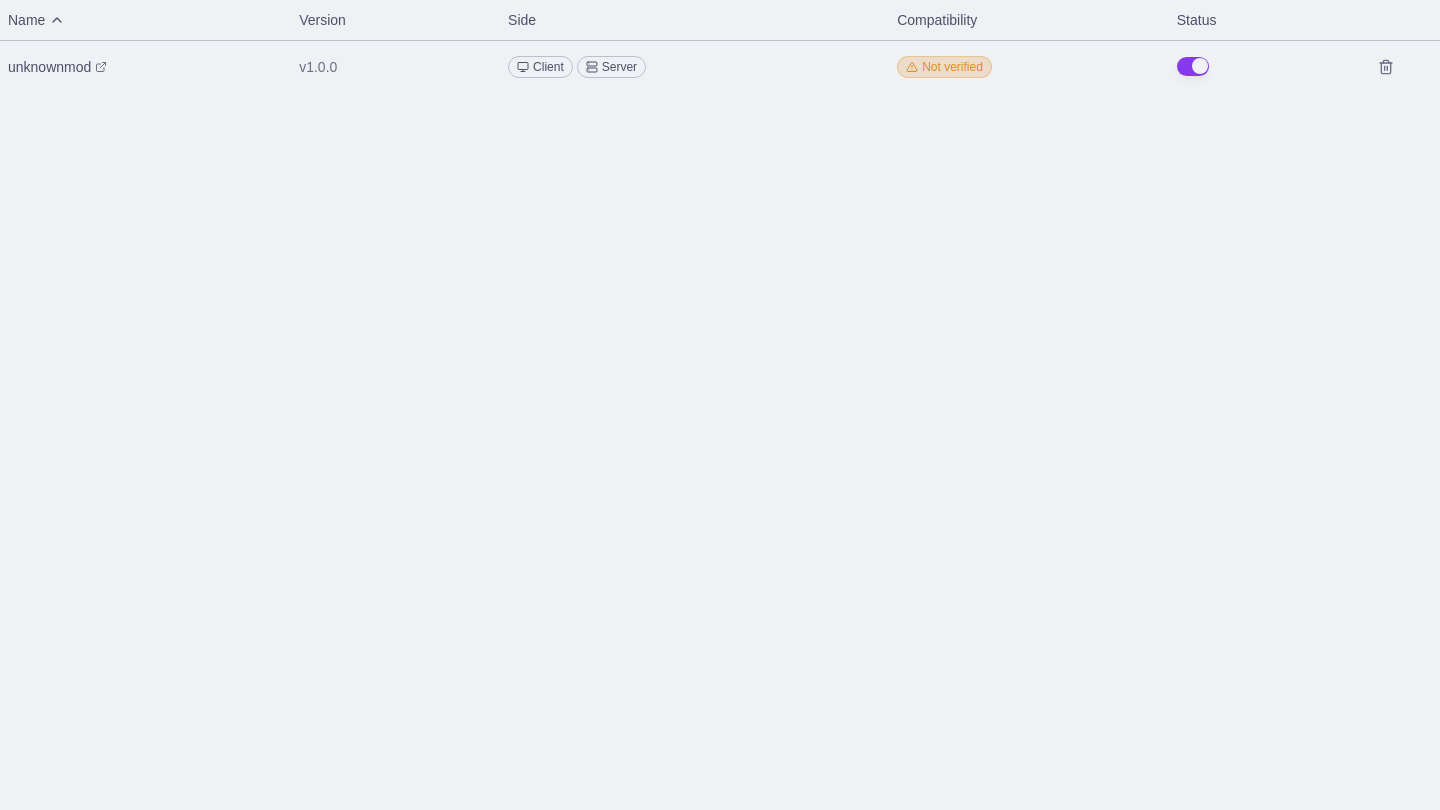
Test: ModTable › remove dialog › shows slug in dialog title when name is null
This screenshot has width=1440, height=810.
Click the button with test id "mod-remove-unknownmod".
click(1386, 66)  # box [1368,48,1404,84]
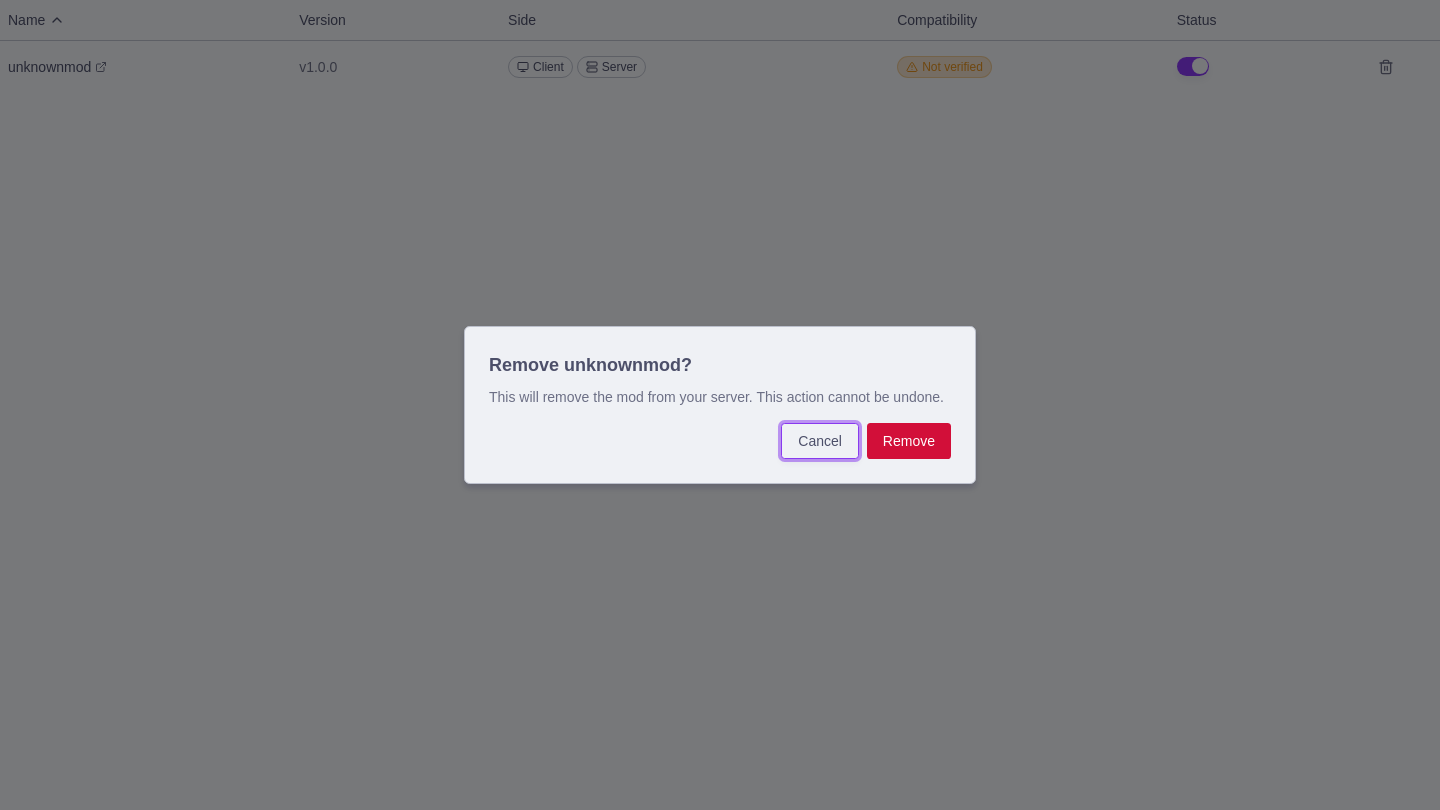
Result: the heading "Remove unknownmod?" is shown at [489,355,692,375]
